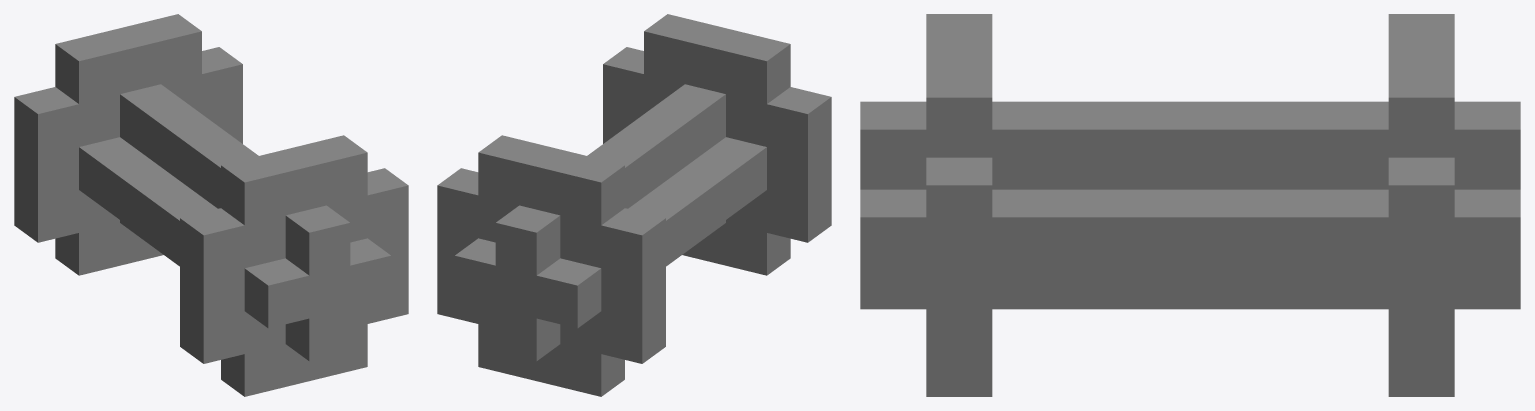
Rendered from lvl2-28.obj.
The picture shows the model from 3 angles, left to right: view 1: azimuth 30°, elevation 25°; view 2: azimuth 150°, elevation 25°; view 3: azimuth 270°, elevation 25°; orthographic projection. The views are drawn at different scales.
Size of the model in its own units: 0.5 by 0.5 by 1.
1 material, 1 textured.
